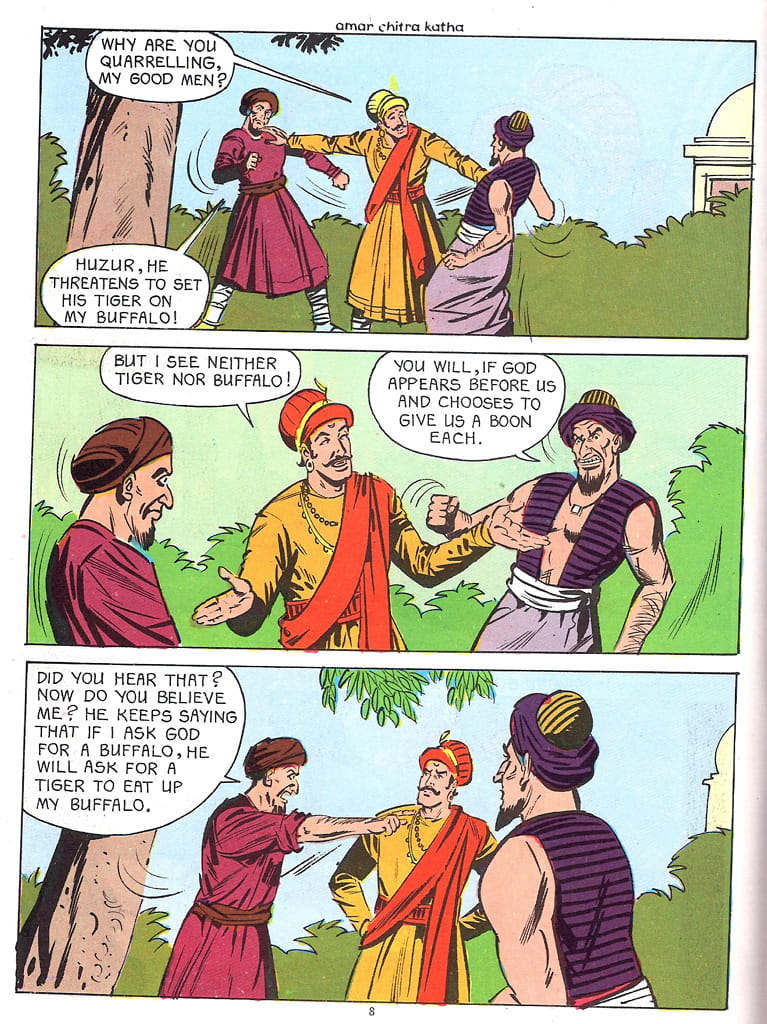panel: (27, 663, 724, 1006), (39, 22, 747, 342), (33, 345, 738, 657)
